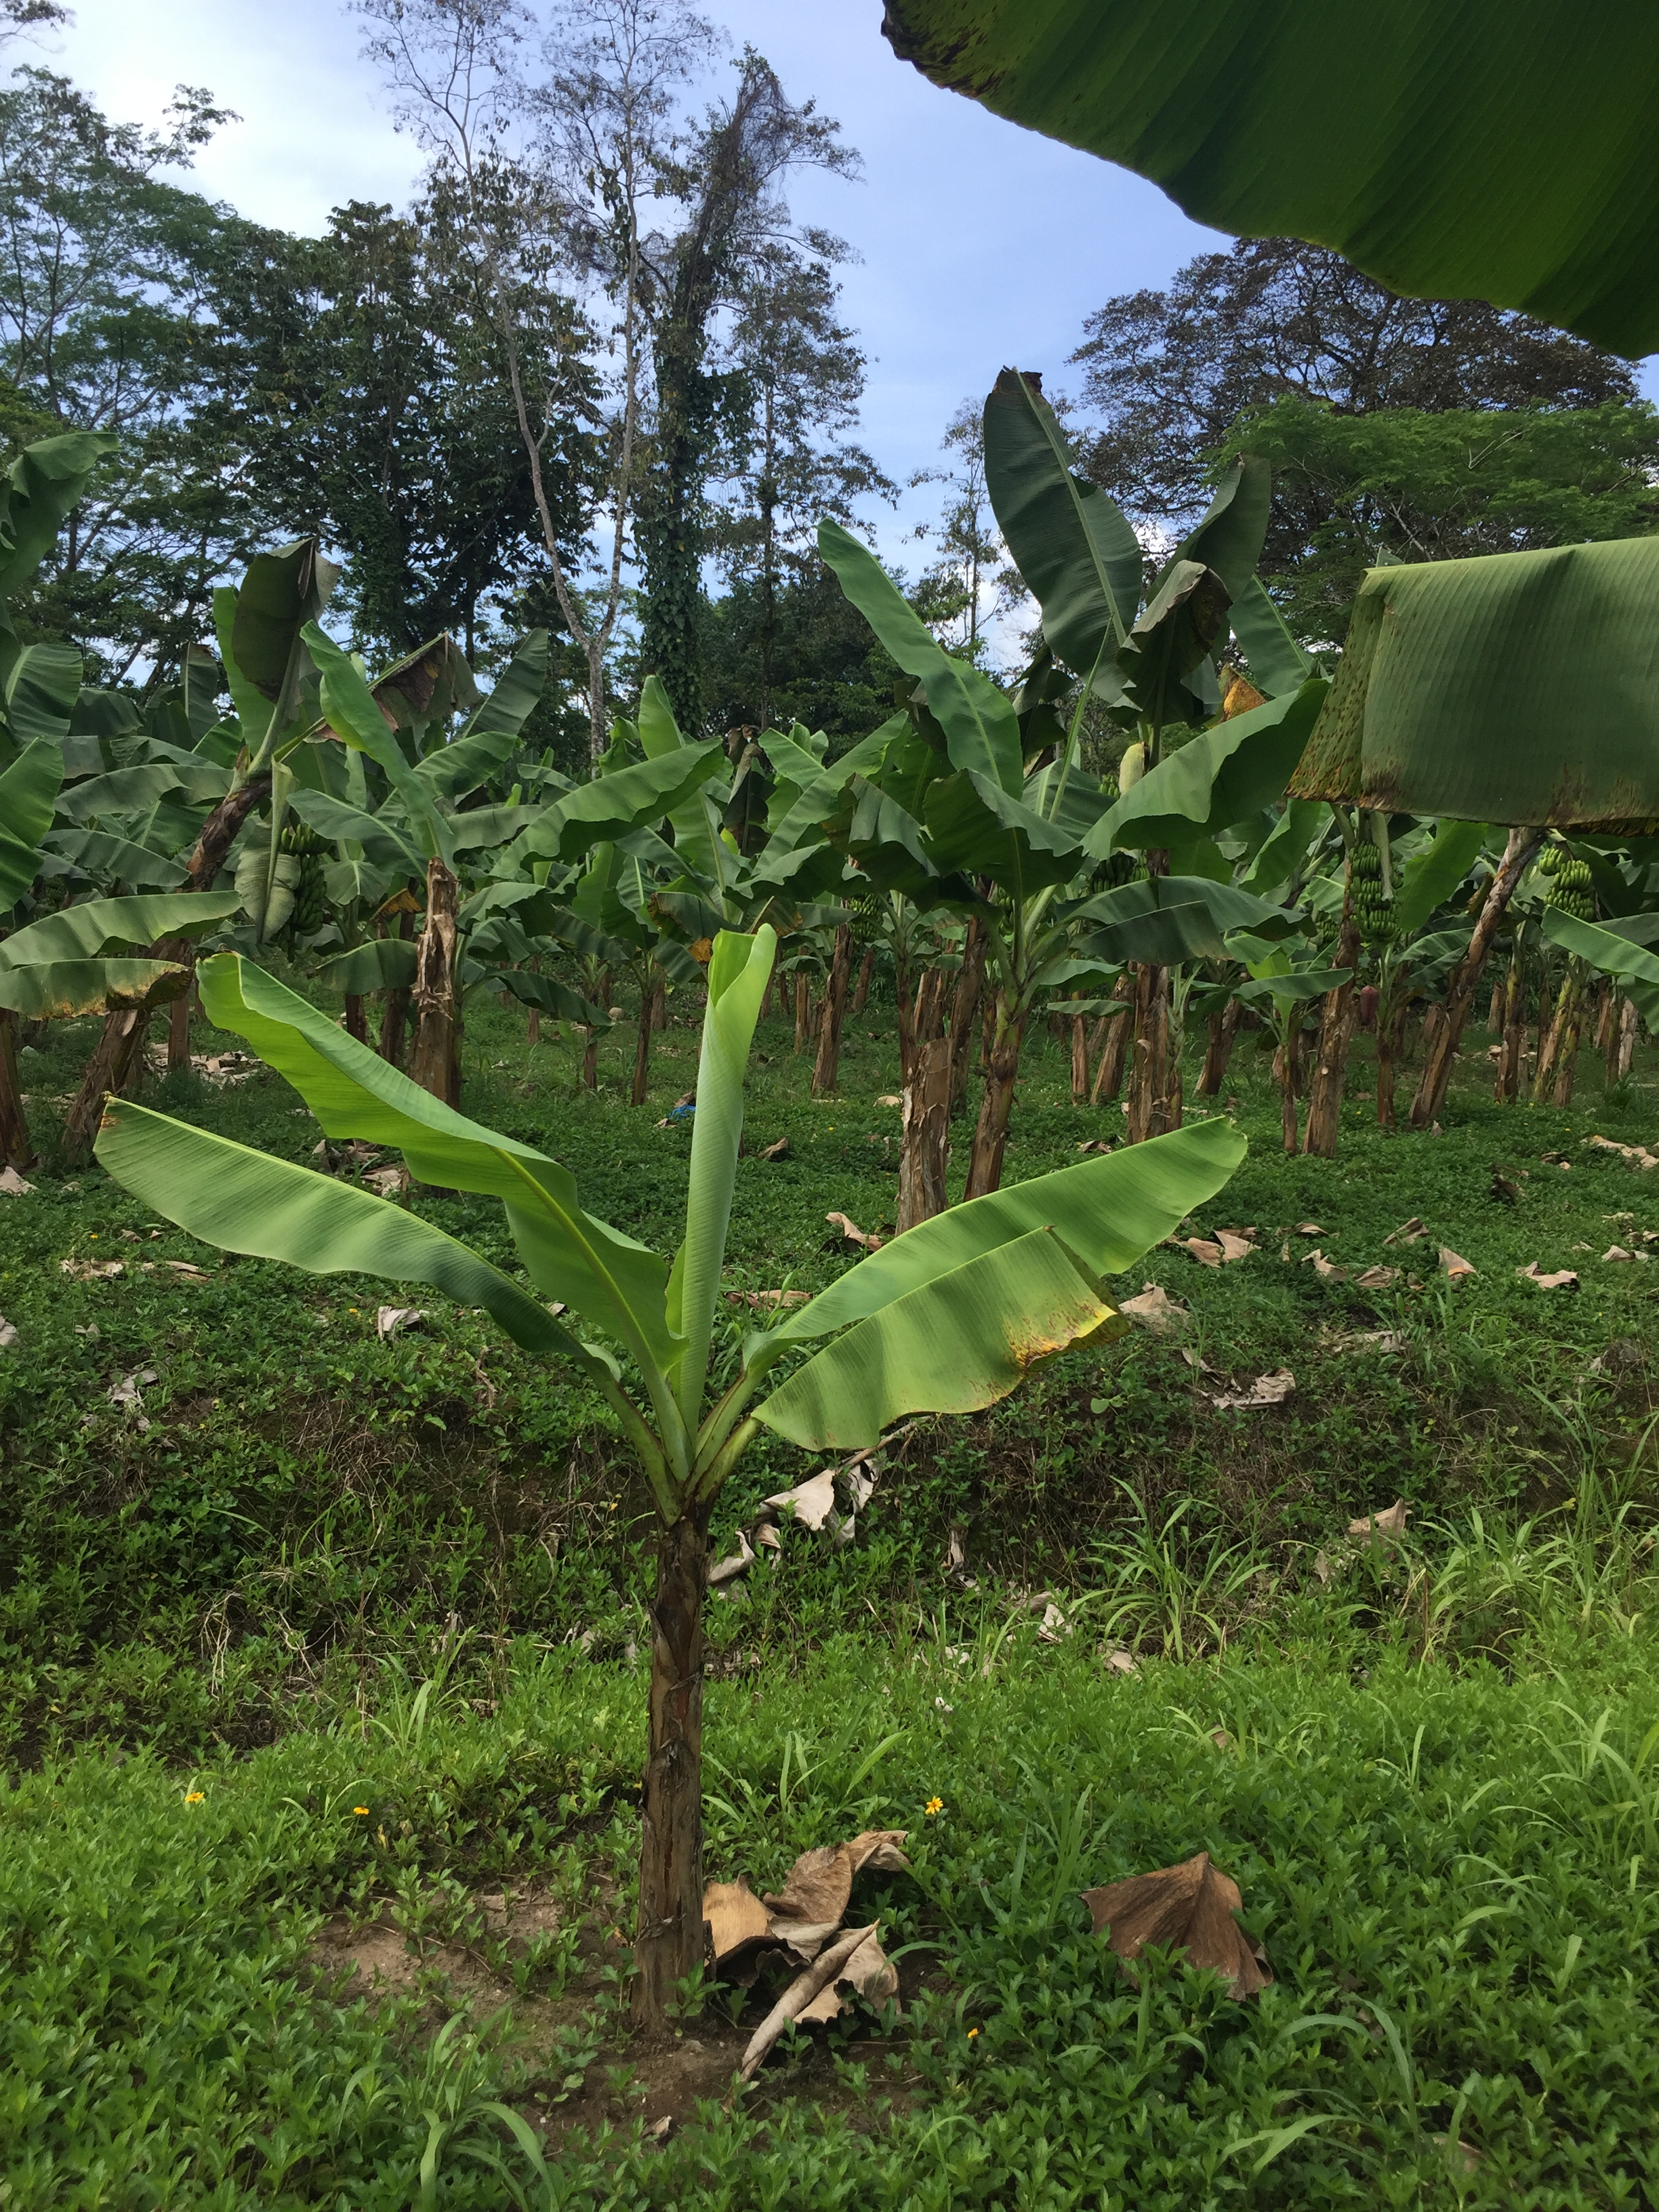candleleafs: (671, 920, 777, 1451)
